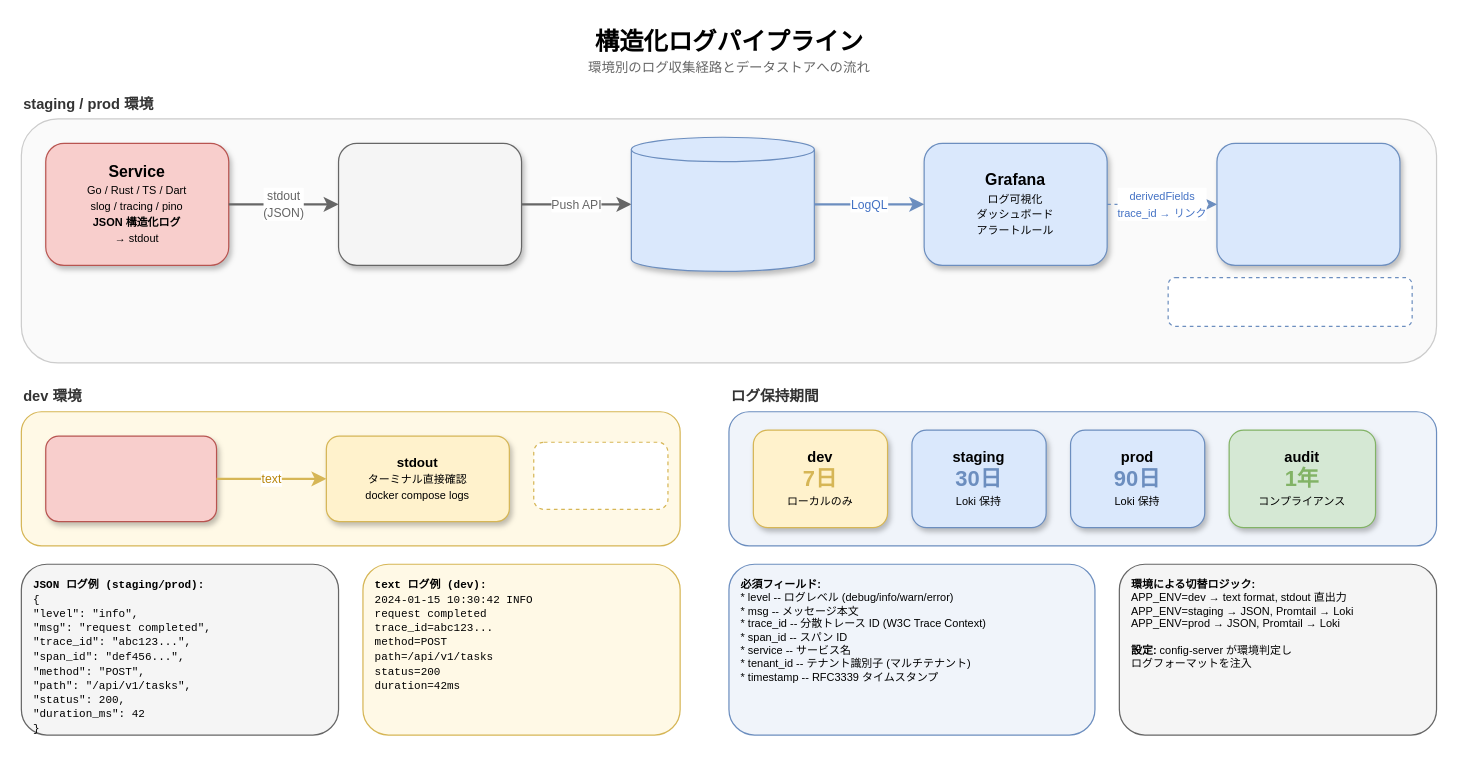
Some shapes in this 1458 by 758 pixel diagram are drawn without their labels. Here are the shapes that lost their labels. From the top down, the centre of each, then its label:
At (430,205): "Promtail DaemonSet ラベル付与 (namespace, pod, container)".
At (723,205): "Loki ログストレージ ラベルインデックス LogQL クエリ".
At (1309,205): "Jaeger 分散トレーシング trace_id で検索".
At (1289,301): "ログ内の trace_id フィールドから Jaeger UI へ直接遷移可能".
At (132,480): "Service text format 人間が読みやすい形式".
At (600,475): "APP_ENV=dev のとき text format を使用 （Loki 連携なし）".
